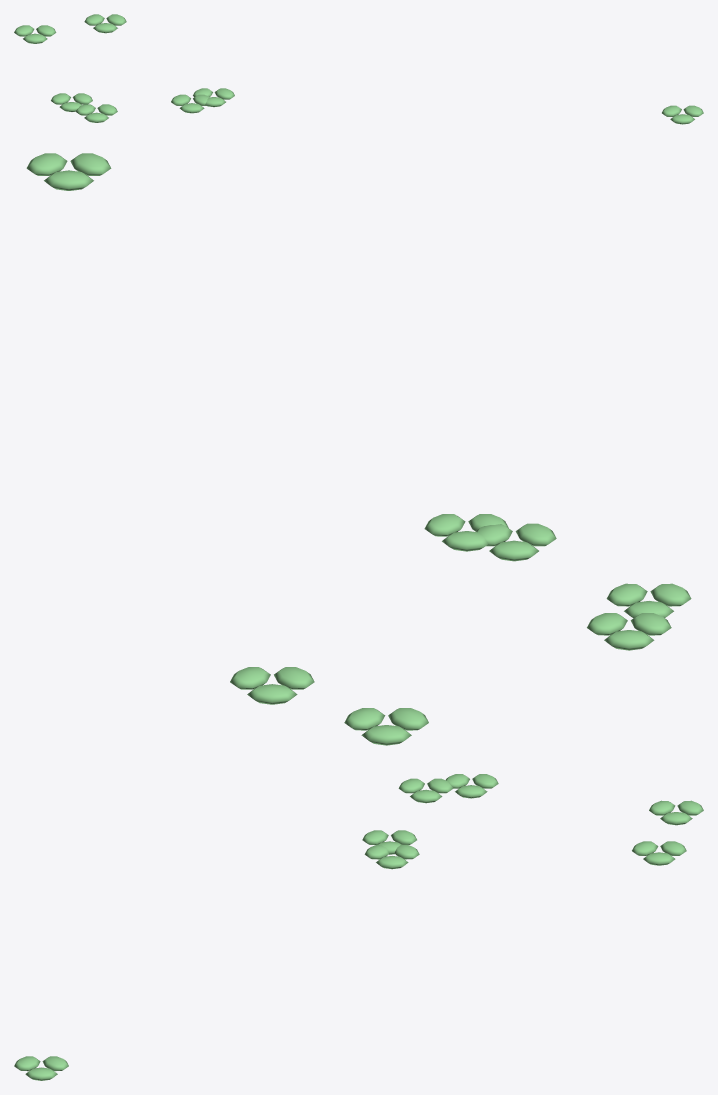
The model's file is layer_summer_sparse.glb.
3 renders of one model, top to bottom at view 1: azimuth 30°, elevation 25°; view 2: azimuth 150°, elevation 25°; view 3: azimuth 270°, elevation 25°, orthographic. The views are drawn at different scales.
Bounding box in the file's own units: 2.63 × 0.035 × 2.52.
